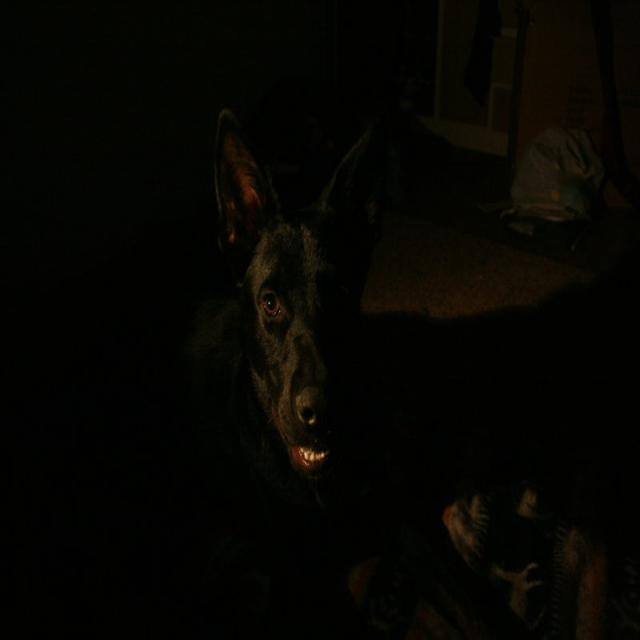dog: (166, 40, 616, 625)
